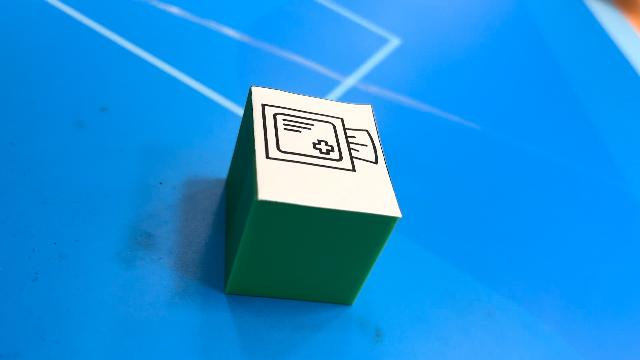napkin: (222, 83, 404, 306)
